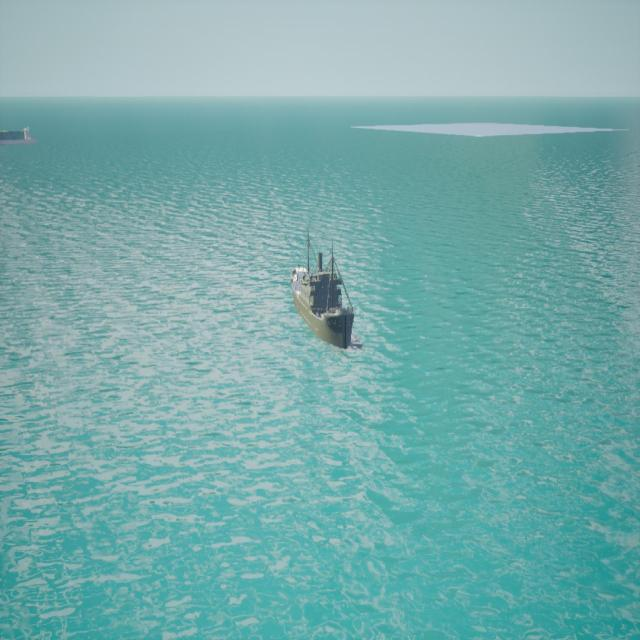fishing ship: (292, 234, 357, 353)
